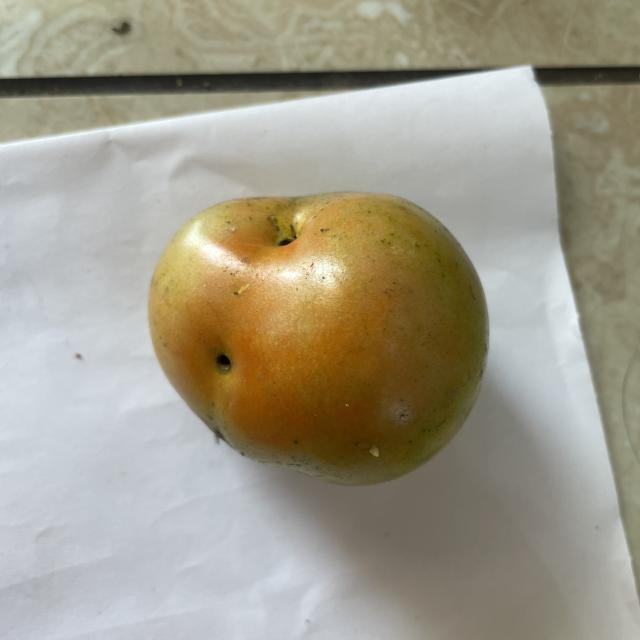fruitworm_bore: (208, 342, 240, 382)
